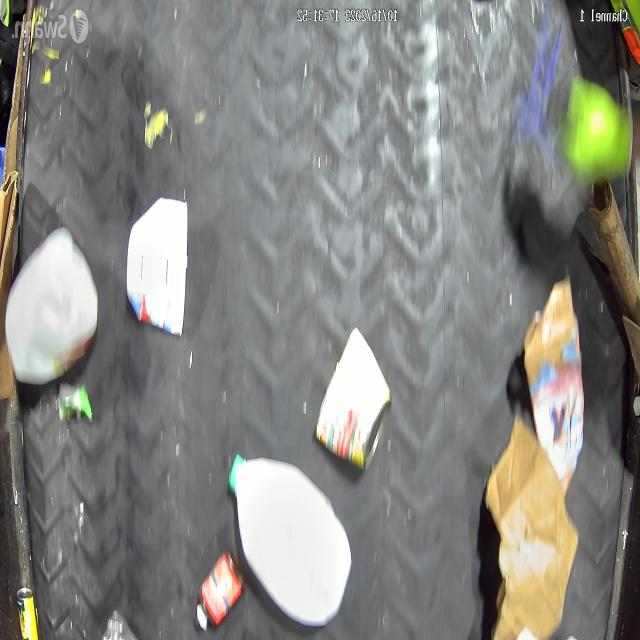can: (310, 328, 388, 482)
milk_jug: (228, 452, 352, 629), (0, 226, 104, 390)
